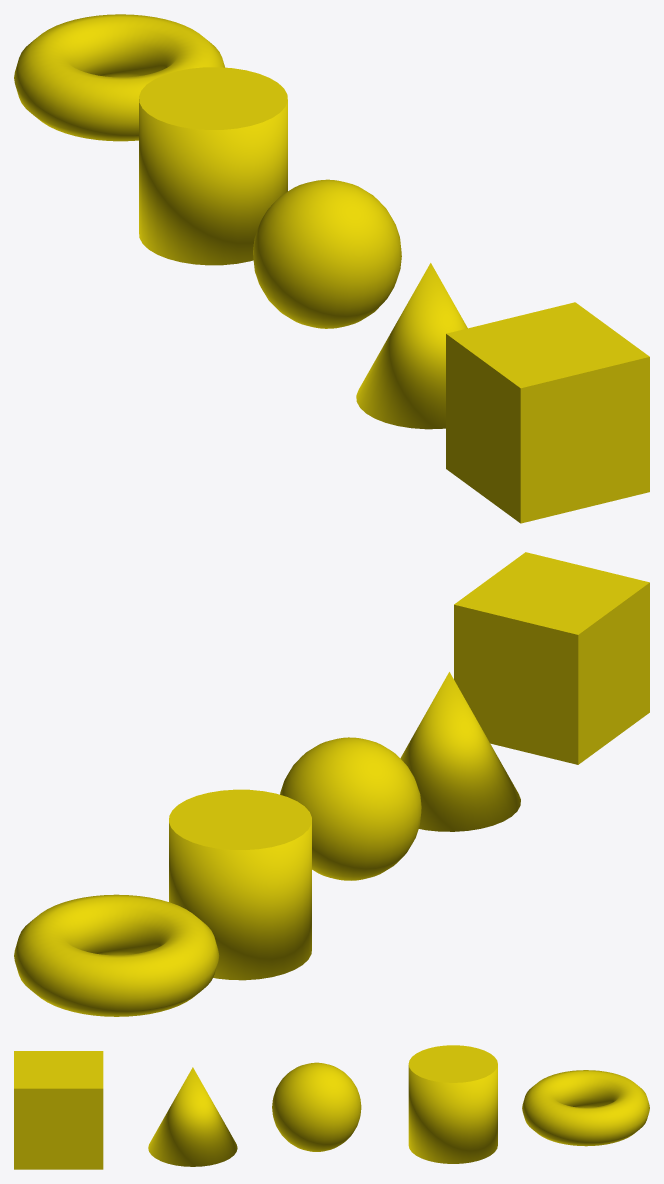
The model's file is Christmas Eve Primatives.fbx.
3 renders of one model, top to bottom at view 1: azimuth 30°, elevation 25°; view 2: azimuth 150°, elevation 25°; view 3: azimuth 270°, elevation 25°, orthographic. The views are drawn at different scales.
Parts seen in each view (by area): view 1: Cube, Cylinder, Sphere, Torus, Cone; view 2: Cube, Cylinder, Torus, Sphere, Cone; view 3: Cube, Cylinder, Torus, Sphere, Cone.
Boxes of the visible parts, box(x1,y1,x2,y2) form: Cube: box(446, 302, 649, 523); Cylinder: box(139, 67, 287, 265); Sphere: box(253, 179, 401, 328); Torus: box(14, 14, 224, 141); Cone: box(356, 263, 467, 429); Cube: box(454, 552, 649, 764); Cylinder: box(169, 789, 311, 980); Torus: box(14, 894, 219, 1016); Sphere: box(280, 737, 421, 880); Cone: box(400, 672, 520, 831); Cube: box(14, 1051, 103, 1169); Cylinder: box(408, 1045, 497, 1163); Torus: box(522, 1070, 649, 1146); Sphere: box(272, 1062, 361, 1151); Cone: box(148, 1067, 237, 1166).
Bounding box in the file's own units: 286 × 210 × 1422.
